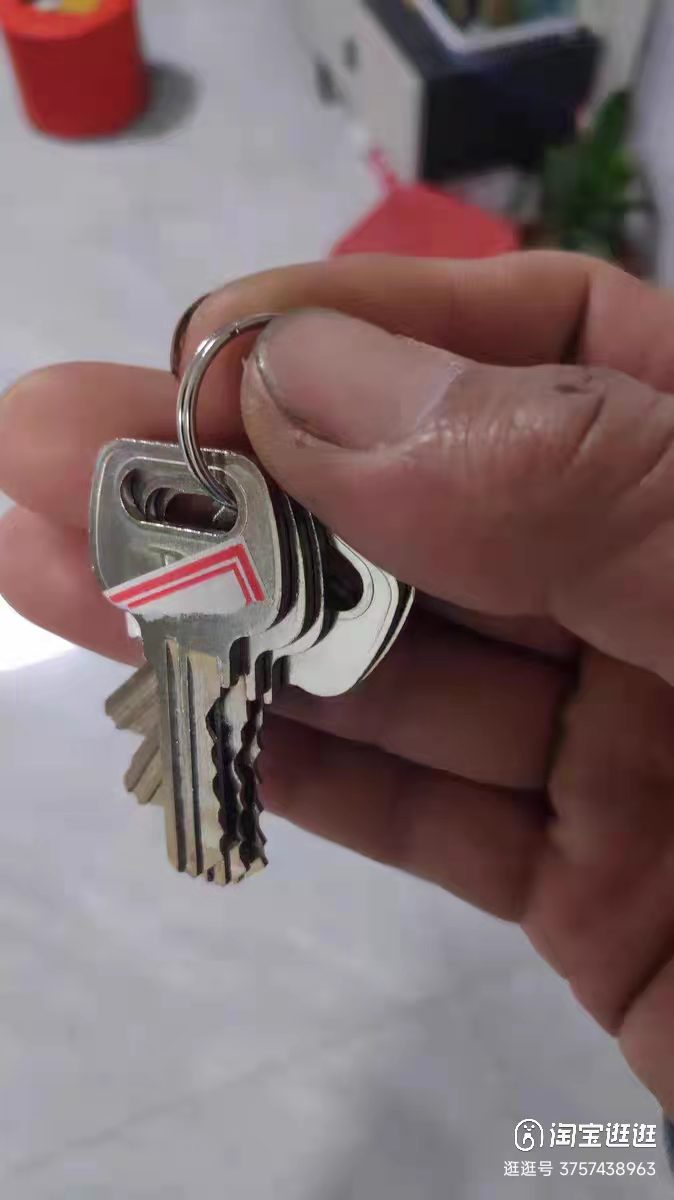key: (79, 418, 288, 890)
